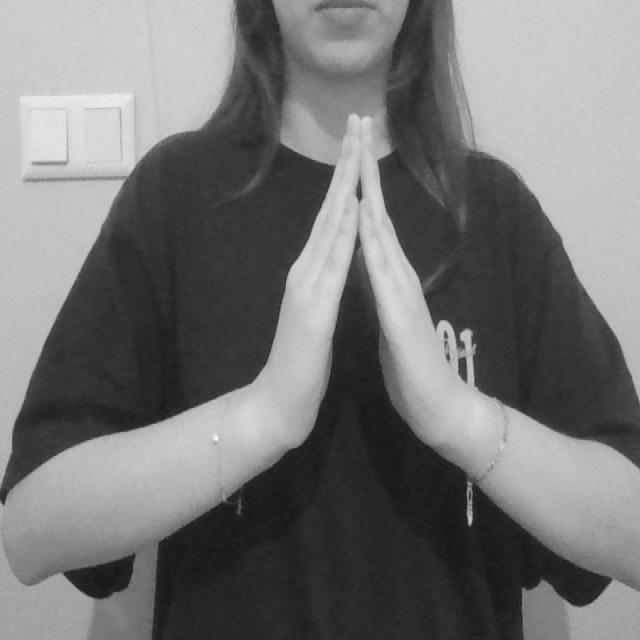Ev: (244, 106, 471, 456)
